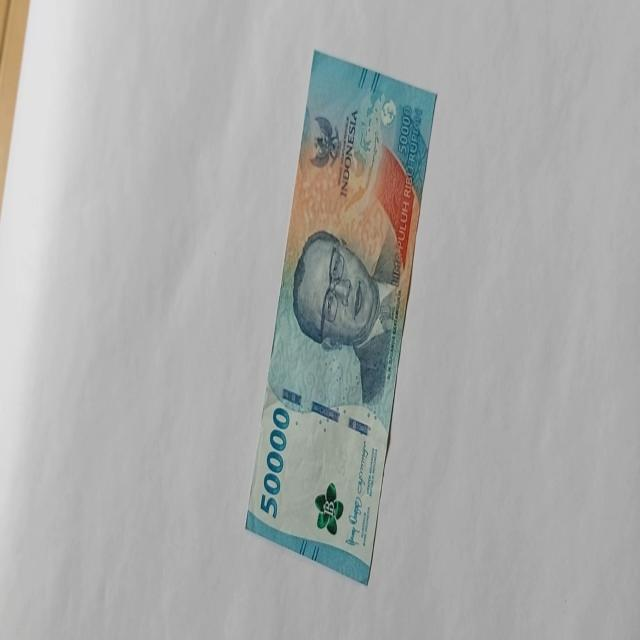lima puluh ribu rupiah: (244, 48, 438, 585)
